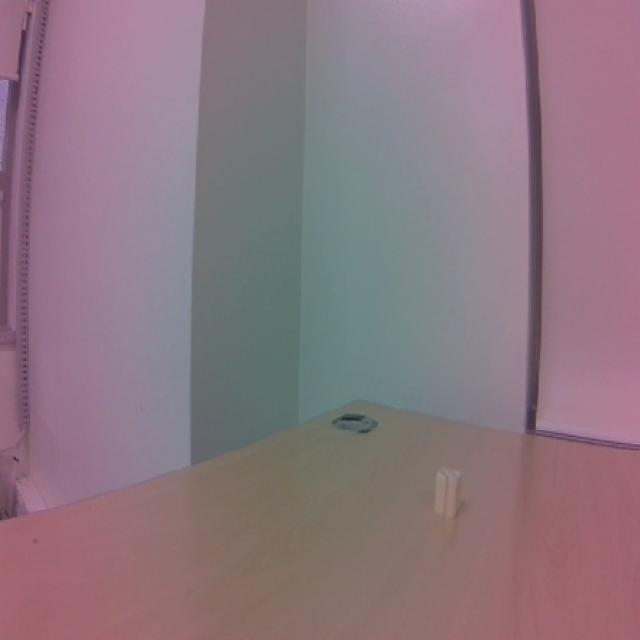obstacle: (423, 462, 472, 527)
